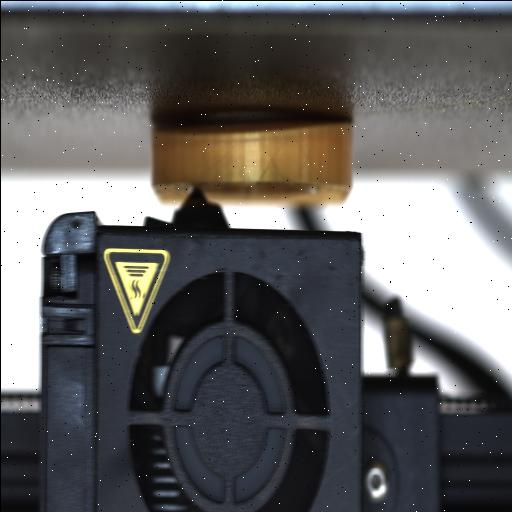warp: (154, 117, 351, 149)
